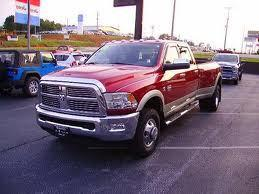Car: (33, 32, 224, 158), (209, 48, 245, 86)
